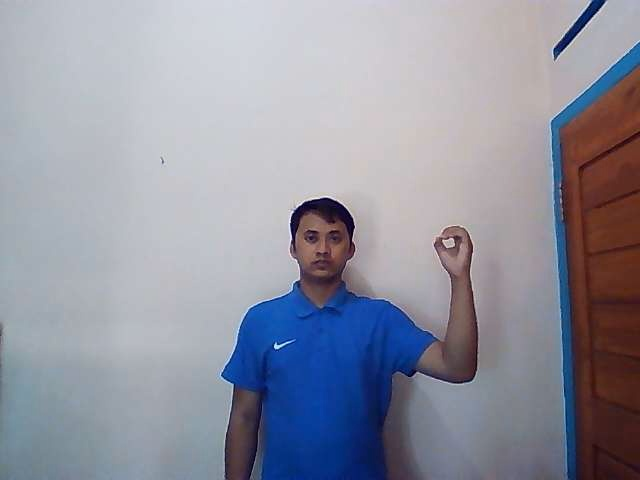O: (431, 224, 475, 277)
